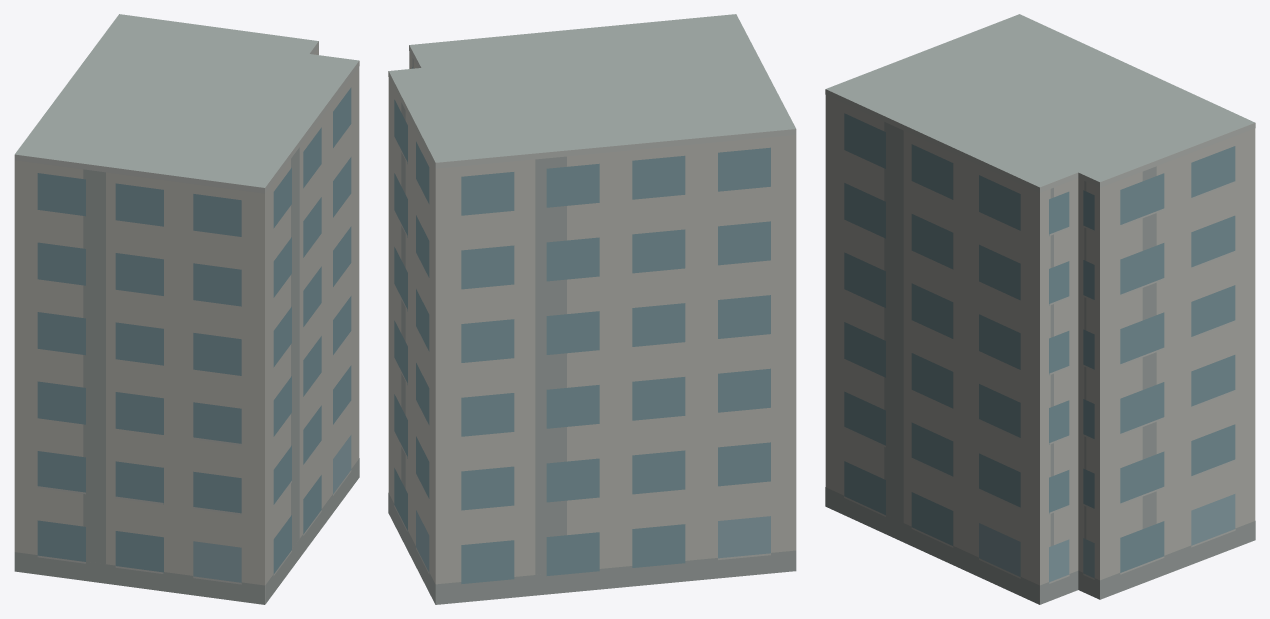
File: survey-upis-32833247.glb
The picture shows the model from 3 angles, left to right: view 1: azimuth 30°, elevation 25°; view 2: azimuth 150°, elevation 25°; view 3: azimuth 270°, elevation 25°; orthographic projection. The views are drawn at different scales.
Visible parts, largest first — view 1: survey-upis-32833247.tmp; view 2: survey-upis-32833247.tmp; view 3: survey-upis-32833247.tmp.
Part boxes in pixels (x1=…): survey-upis-32833247.tmp: x1=14, y1=14, x2=359, y2=604; survey-upis-32833247.tmp: x1=388, y1=14, x2=796, y2=604; survey-upis-32833247.tmp: x1=825, y1=14, x2=1255, y2=604.
Size of the model in its own units: 16.05 by 18 by 16.81.
